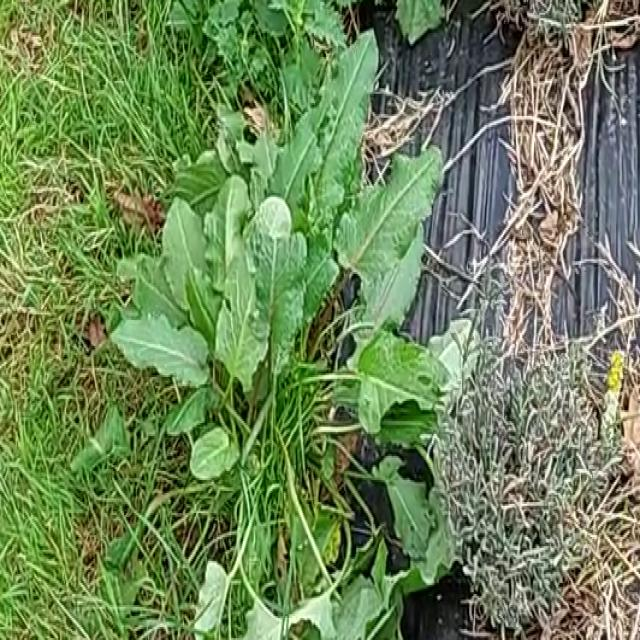organic waste: (88, 19, 461, 602)
